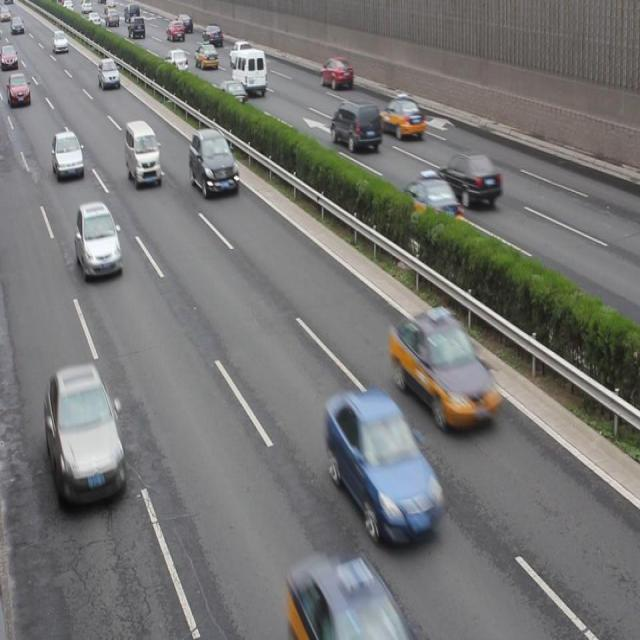car: (324, 389, 443, 543), (391, 304, 498, 428), (45, 364, 126, 508), (440, 147, 500, 205), (76, 202, 121, 278), (188, 129, 238, 196), (401, 170, 459, 223), (378, 94, 424, 139), (52, 132, 83, 180), (320, 57, 352, 92), (1, 72, 32, 107), (218, 80, 248, 110), (195, 39, 218, 71), (98, 59, 121, 90), (162, 50, 188, 74), (229, 40, 251, 67), (203, 24, 223, 46), (128, 16, 146, 40), (1, 45, 18, 69), (167, 21, 184, 44), (53, 31, 69, 54), (176, 14, 192, 34)
truck: (330, 99, 381, 151), (124, 121, 162, 186), (232, 48, 267, 92)
